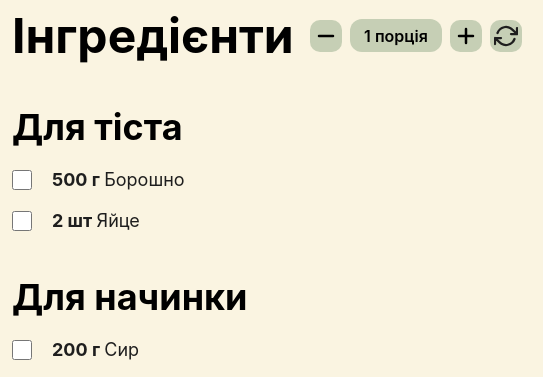
Scenario: <Ingredients /> › змінює кількість порцій та перераховує інгредієнти
Expected: the text "1 порція" is shown, x1=350 y1=19 x2=442 y2=52
Click the 2nd button.
click(466, 36)  # box x1=450 y1=20 x2=482 y2=52
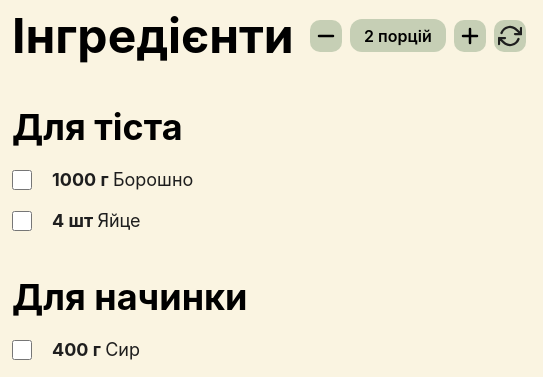
Result: the text "2 порцій" is shown at x1=350 y1=19 x2=446 y2=52
Result: the text "1000 г" is shown at x1=12 y1=169 x2=193 y2=190
Result: the text "4 шт" is shown at x1=12 y1=210 x2=141 y2=231
Click the 1st button.
click(326, 36)  # box x1=310 y1=20 x2=342 y2=52
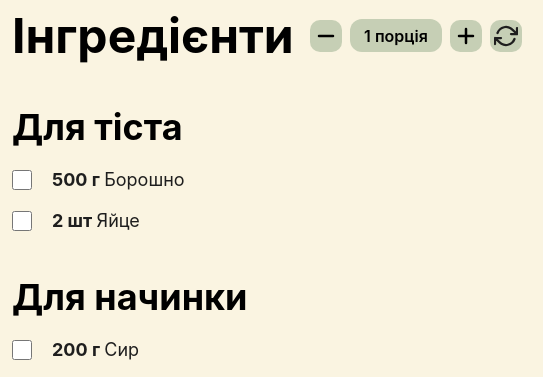
Result: the text "1 порція" is shown at x1=350 y1=19 x2=442 y2=52
Result: the text "500 г" is shown at x1=12 y1=169 x2=185 y2=190
